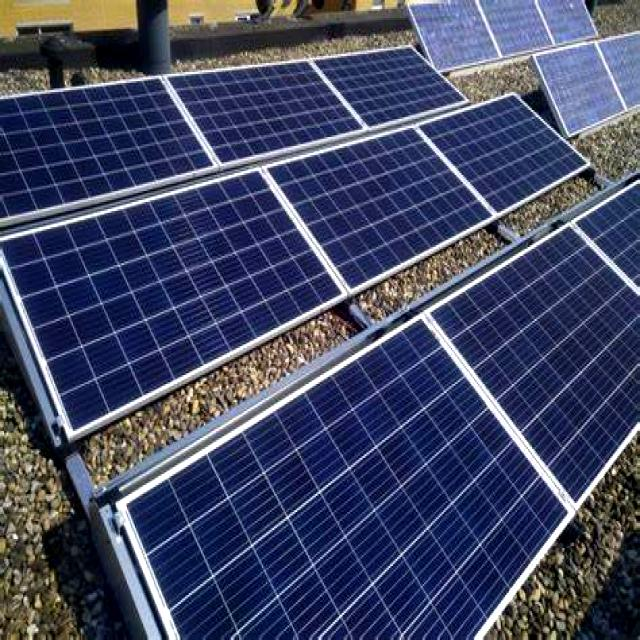crack: (251, 363, 640, 640), (7, 208, 326, 387), (258, 251, 536, 393)
